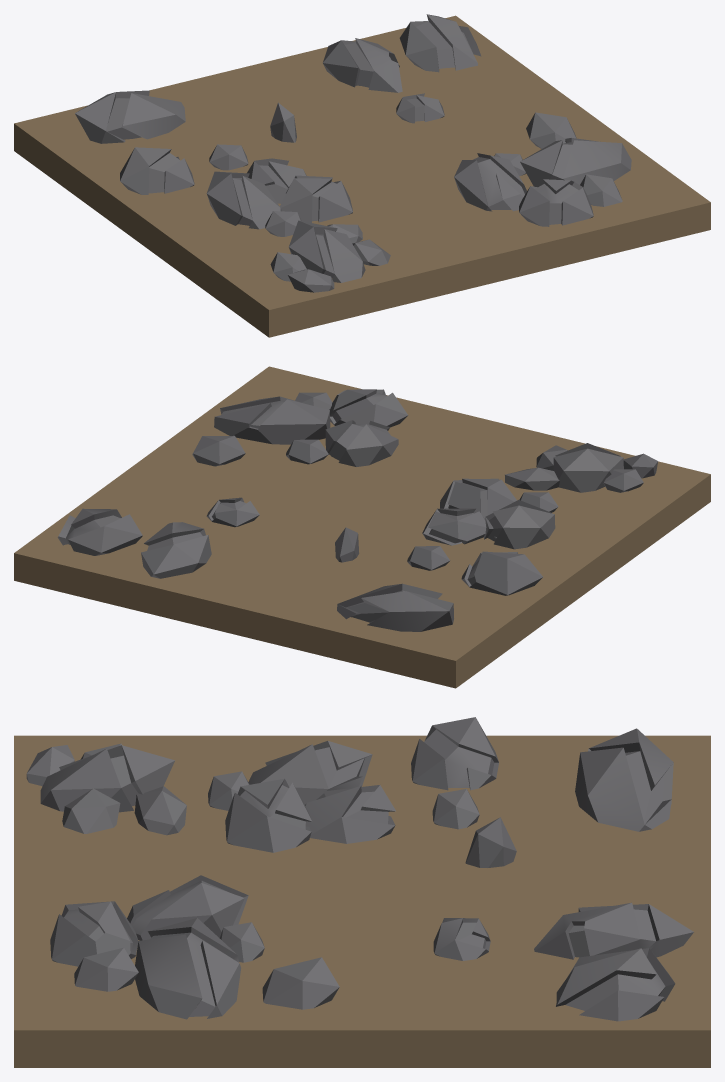
File: Pasto muerto con piedras.fbx
3 renders of one model, top to bottom at view 1: azimuth 30°, elevation 25°; view 2: azimuth 150°, elevation 25°; view 3: azimuth 270°, elevation 25°, orthographic. The views are drawn at different scales.
Visible parts, largest first — view 1: polySurface353; view 2: polySurface353; view 3: polySurface353.
Part boxes in pixels (bbox=[...]): polySurface353: bbox=[14, 14, 710, 337]; polySurface353: bbox=[14, 366, 710, 688]; polySurface353: bbox=[14, 717, 710, 1067].
Bounding box in the file's own units: 2.99 × 0.4388 × 2.99.
